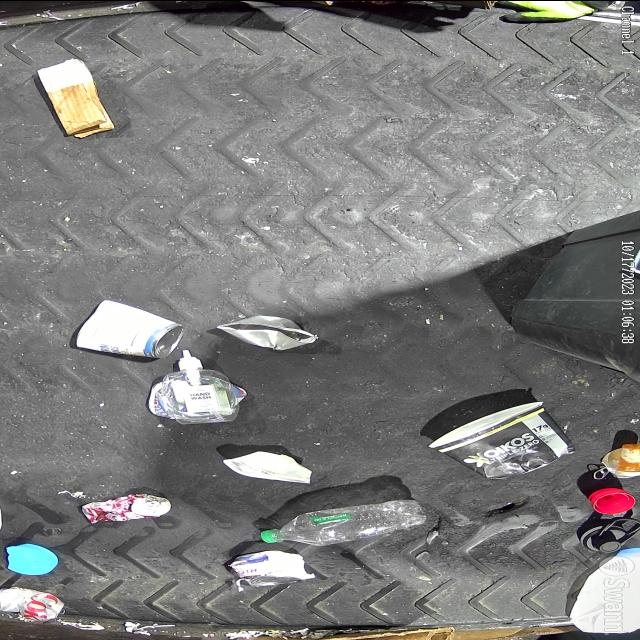can: (75, 298, 186, 360), (216, 314, 320, 350), (81, 492, 172, 524), (231, 550, 309, 584), (0, 586, 68, 624)
milk_jug: (570, 546, 640, 632)
plastic_bottle: (260, 498, 428, 544)
